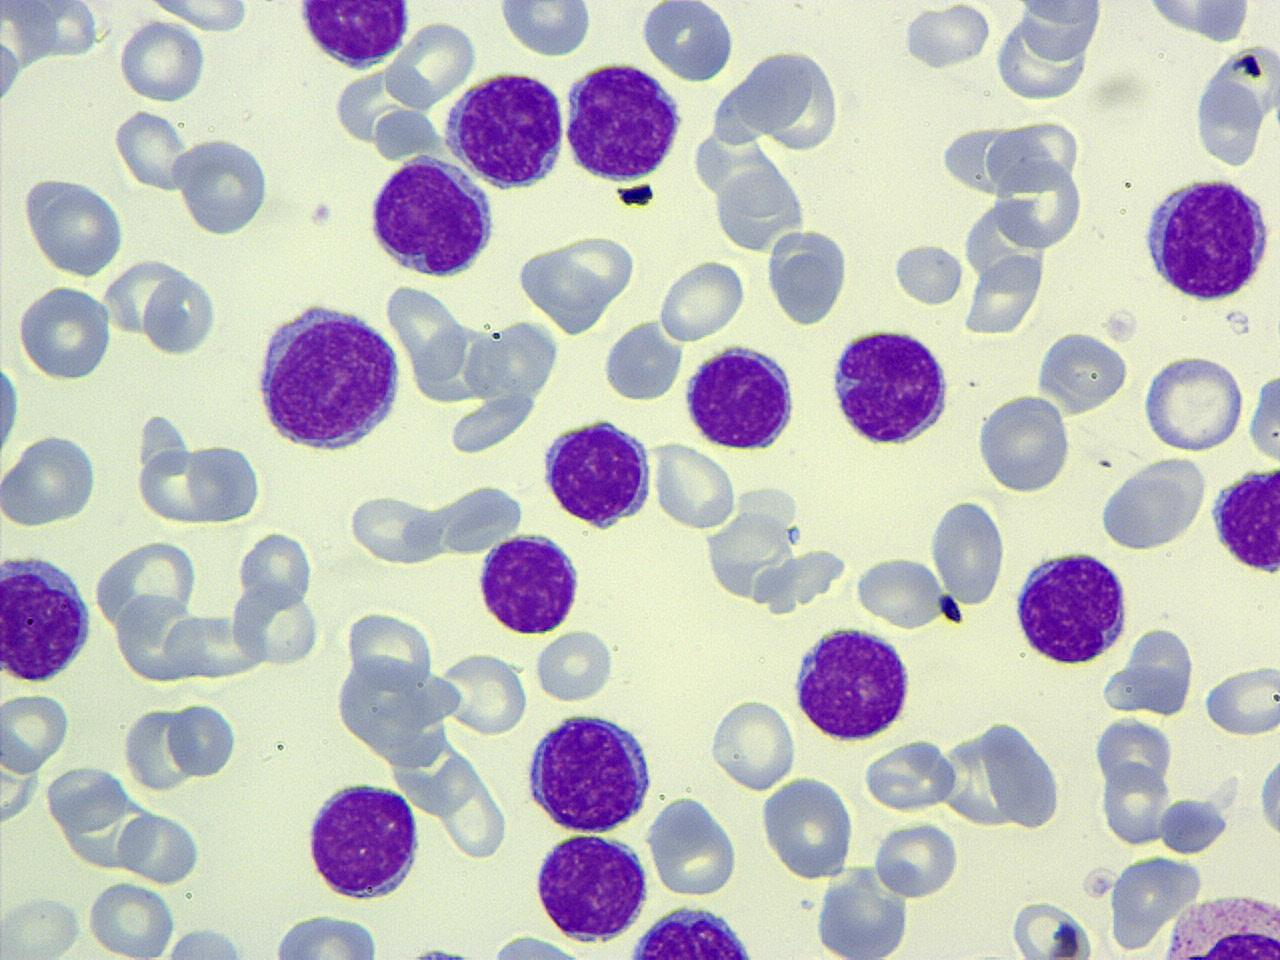Platelets: (900, 2, 992, 73), (1158, 796, 1230, 856), (1255, 746, 1280, 844), (614, 181, 656, 210), (406, 942, 469, 960)
RBC: (333, 654, 466, 766), (516, 228, 640, 336), (1096, 452, 1210, 552), (989, 4, 1103, 101), (1140, 350, 1246, 453), (974, 390, 1074, 495), (174, 133, 275, 237), (93, 536, 199, 635), (758, 773, 856, 880), (645, 794, 741, 898), (3, 432, 102, 530), (16, 282, 115, 380), (812, 864, 912, 960), (1035, 324, 1133, 418), (991, 156, 1085, 252), (706, 694, 798, 792), (926, 496, 1008, 607), (1103, 626, 1197, 721), (33, 182, 125, 278), (383, 18, 475, 112), (343, 606, 438, 696), (228, 578, 322, 667), (648, 440, 738, 531), (439, 648, 532, 737), (656, 256, 748, 344), (117, 15, 207, 104), (638, 1, 736, 82), (986, 117, 1084, 197), (346, 491, 445, 566), (437, 758, 509, 862), (181, 439, 268, 524), (600, 316, 685, 402), (84, 880, 178, 958), (864, 736, 956, 814), (854, 552, 947, 628), (872, 819, 958, 899), (115, 105, 194, 194), (114, 809, 203, 884), (534, 625, 618, 705), (142, 270, 218, 357), (124, 704, 198, 792), (1099, 760, 1171, 848), (902, 1, 992, 72), (0, 687, 72, 774), (236, 530, 318, 606), (166, 698, 239, 781), (1202, 659, 1278, 737), (42, 764, 130, 831), (496, 0, 594, 59), (268, 909, 384, 958), (0, 891, 83, 959), (891, 236, 965, 308), (1008, 896, 1089, 960), (1141, 0, 1253, 42), (1158, 791, 1230, 856), (0, 732, 42, 826), (1244, 361, 1280, 470), (141, 0, 255, 32), (1, 339, 24, 482), (1255, 745, 1280, 845)
WBC: (252, 296, 405, 456), (702, 485, 856, 621), (1138, 171, 1276, 304), (523, 708, 657, 836), (366, 154, 499, 280), (826, 323, 956, 450), (442, 67, 568, 194), (563, 56, 687, 184), (302, 778, 426, 904), (1012, 546, 1135, 669), (790, 622, 916, 742), (333, 650, 465, 762), (531, 829, 653, 945), (540, 414, 658, 532), (682, 340, 802, 453), (0, 551, 96, 685), (518, 232, 640, 337), (474, 529, 586, 638), (1190, 40, 1280, 171), (967, 715, 1067, 831), (1096, 452, 1210, 553), (989, 1, 1105, 100), (710, 157, 810, 259), (812, 862, 912, 960), (990, 153, 1082, 250), (766, 224, 852, 327), (1208, 460, 1280, 579), (1159, 890, 1280, 960), (623, 903, 768, 960), (294, 1, 414, 69), (638, 2, 737, 83), (602, 314, 684, 404), (268, 910, 385, 958), (470, 928, 618, 959), (1158, 792, 1228, 858), (1245, 358, 1279, 470), (1256, 740, 1280, 849)
